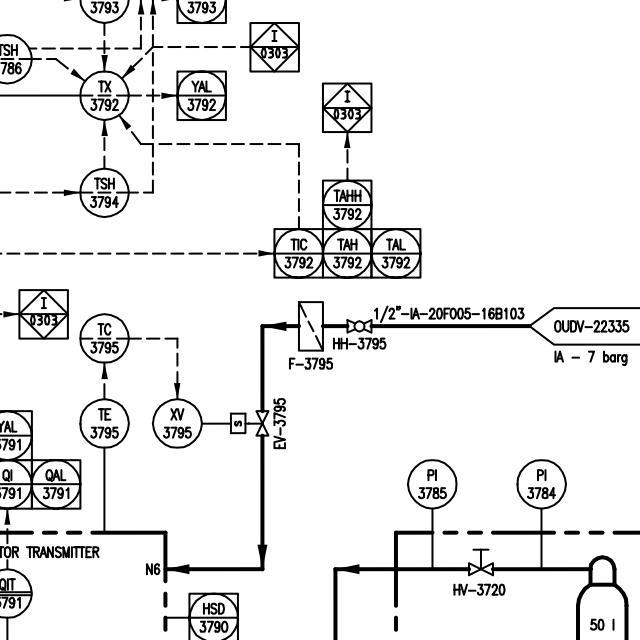BV2: (342, 316, 375, 336)
F2: (293, 296, 328, 355)
HV: (465, 544, 497, 577)
SV: (227, 406, 270, 440)
